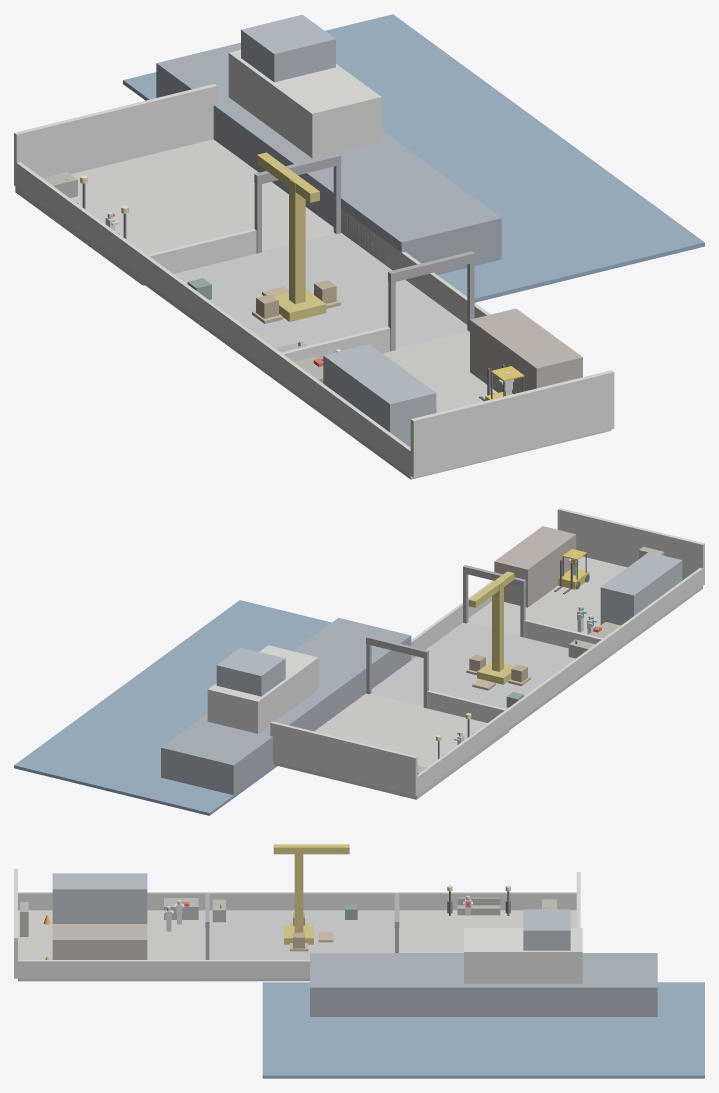
3 views of the same model, one above another, from view 1: azimuth 30°, elevation 25°; view 2: azimuth 150°, elevation 25°; view 3: azimuth 270°, elevation 25° (orthographic). The views are drawn at different scales.
Visible parts, largest first — view 1: S03_Water, Ship_V02_Hull, S03_QuayGround, S02_Ground, S01_EntranceWall, S03_FarWall, Ship_V02_Deckhouse, S01_RightContainer, S01_LeftContainer, S01_Ground, Ship_V02_Bridge, S02_WestWall (+10 smaller); view 2: S03_Water, Ship_V02_Hull, S02_Ground, S03_QuayGround, S03_FarWall, Ship_V02_Deckhouse, S01_EntranceWall, S01_Ground, S01_RightContainer, S01_LeftContainer, Ship_V02_Bridge, S02_WestWall (+9 smaller); view 3: S03_Water, Ship_V02_Hull, S02_Ground, Ship_V02_Deckhouse, S01_LeftContainer, S01_Ground, S03_QuayGround, S01_EastWall, S01_RightContainer, S02_WestWall, S03_WestWall, Ship_V02_Bridge (+8 smaller).
Part boxes in pixels (x1,y1,x2,y2): S03_Water: [123, 14, 704, 302]; Ship_V02_Hull: [156, 42, 501, 274]; S03_QuayGround: [15, 139, 334, 285]; S02_Ground: [143, 233, 468, 381]; S01_EntranceWall: [410, 370, 614, 477]; S03_FarWall: [14, 84, 217, 185]; Ship_V02_Deckhouse: [228, 50, 381, 158]; S01_RightContainer: [470, 308, 582, 393]; S01_LeftContainer: [323, 344, 436, 447]; S01_Ground: [277, 331, 611, 479]; Ship_V02_Bridge: [241, 14, 335, 82]; S02_WestWall: [143, 255, 280, 377]; S03_Water: [14, 600, 331, 815]; Ship_V02_Hull: [161, 618, 411, 795]; S02_Ground: [371, 622, 606, 730]; S03_QuayGround: [274, 693, 509, 799]; S03_FarWall: [270, 721, 417, 795]; Ship_V02_Deckhouse: [207, 645, 318, 733]; S01_EntranceWall: [557, 508, 704, 585]; S01_Ground: [468, 556, 702, 659]; S01_RightContainer: [494, 526, 576, 607]; S01_LeftContainer: [600, 552, 682, 625]; Ship_V02_Bridge: [216, 647, 285, 696]; S02_WestWall: [507, 638, 606, 727]; S03_Water: [262, 982, 704, 1078]; Ship_V02_Hull: [310, 953, 657, 1016]; S02_Ground: [207, 910, 394, 981]; Ship_V02_Deckhouse: [464, 928, 582, 983]; S01_LeftContainer: [52, 873, 147, 923]; S01_Ground: [18, 910, 207, 981]; S03_QuayGround: [399, 910, 576, 952]; S01_EastWall: [18, 960, 207, 978]; S01_RightContainer: [52, 924, 147, 959]; S02_WestWall: [207, 892, 396, 910]; S03_WestWall: [397, 892, 576, 910]; Ship_V02_Bridge: [523, 909, 570, 950].
Size of the model in its own units: 24.2 by 7 by 43.75.
